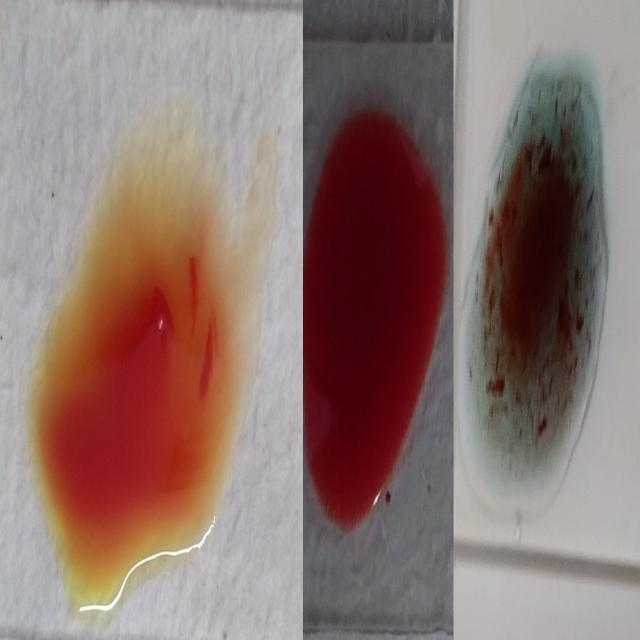A: (471, 43, 615, 494)
